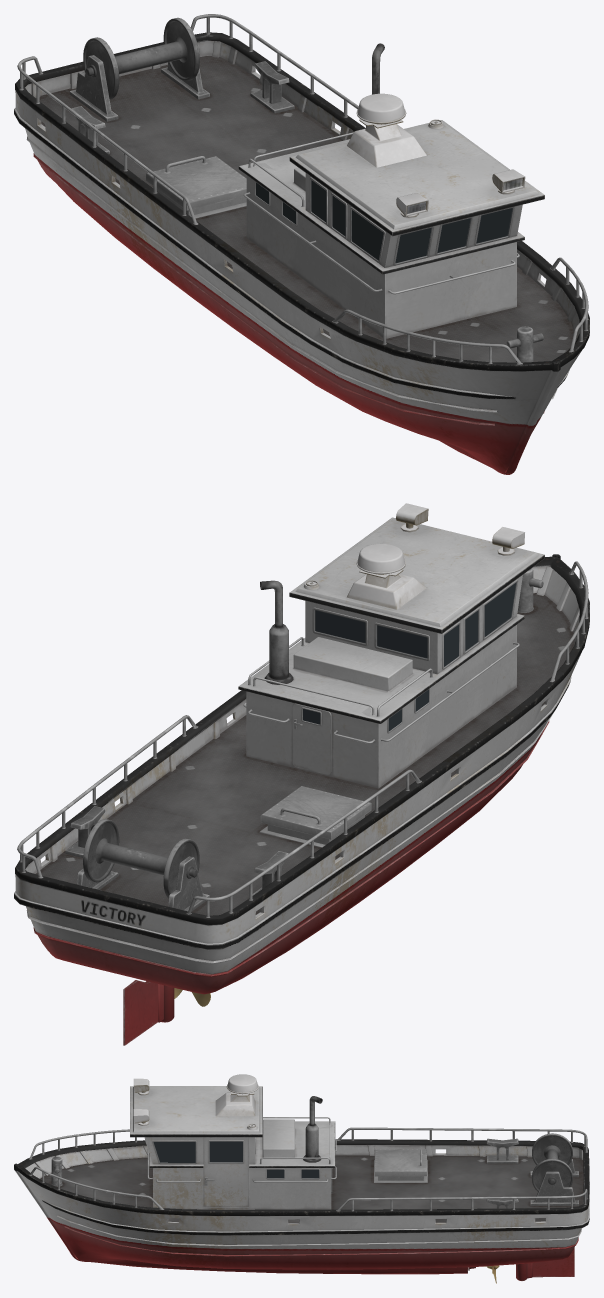
File: Ship.fbx
3 renders of one model, top to bottom at view 1: azimuth 30°, elevation 25°; view 2: azimuth 150°, elevation 25°; view 3: azimuth 270°, elevation 25°, orthographic. The views are drawn at different scales.
Visible parts, largest first — view 1: Hull, Cabin, Details; view 2: Hull, Cabin, Details, Rudder; view 3: Hull, Cabin, Details, Rudder.
Boxes of the visible parts, x1,y1,x2,y2 form: Hull: (14,32,589,474); Cabin: (238,120,544,338); Details: (17,14,588,364); Hull: (14,554,589,994); Cabin: (238,517,544,788); Details: (17,503,588,917); Rudder: (123,980,174,1045); Hull: (14,1139,589,1274); Cabin: (130,1086,335,1209); Details: (29,1074,587,1211); Rudder: (516,1247,574,1280).
Bounding box in the file's own units: 478 × 608 × 1590.
